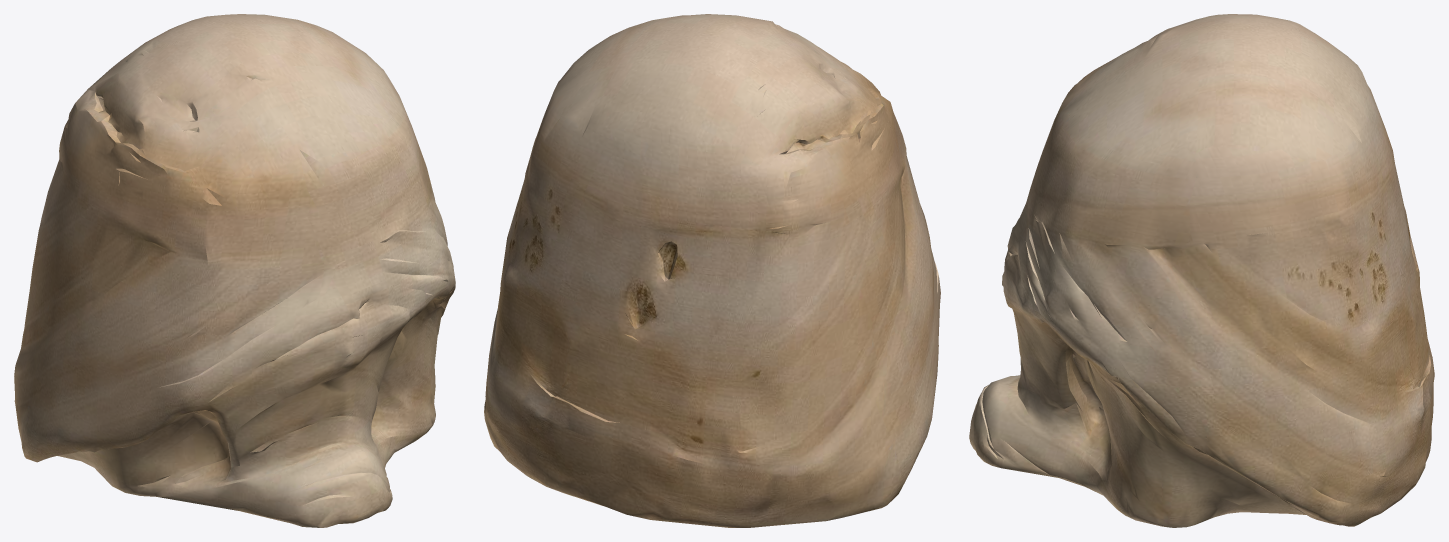
Rendered from isle_boulder_b.glb.
3 views of the same model, side by side, from view 1: azimuth 30°, elevation 25°; view 2: azimuth 150°, elevation 25°; view 3: azimuth 270°, elevation 25° (orthographic). The views are drawn at different scales.
Parts seen in each view (by area): view 1: isle_boulder_b; view 2: isle_boulder_b; view 3: isle_boulder_b.
Part boxes in pixels (bbox=[...]): isle_boulder_b: bbox=[14, 14, 455, 527]; isle_boulder_b: bbox=[484, 14, 940, 527]; isle_boulder_b: bbox=[969, 14, 1434, 527].
Size of the model in its own units: 1 by 0.9995 by 1.
Materials: 1 (1 with a texture image).
